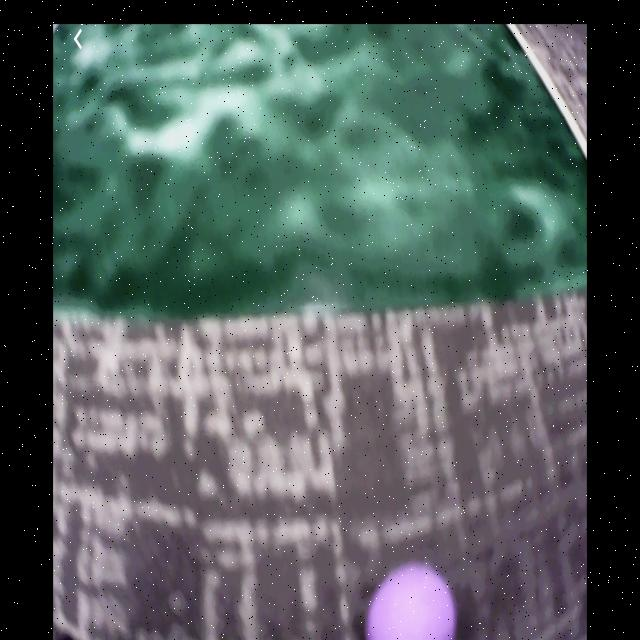ball: (368, 564, 460, 640)
